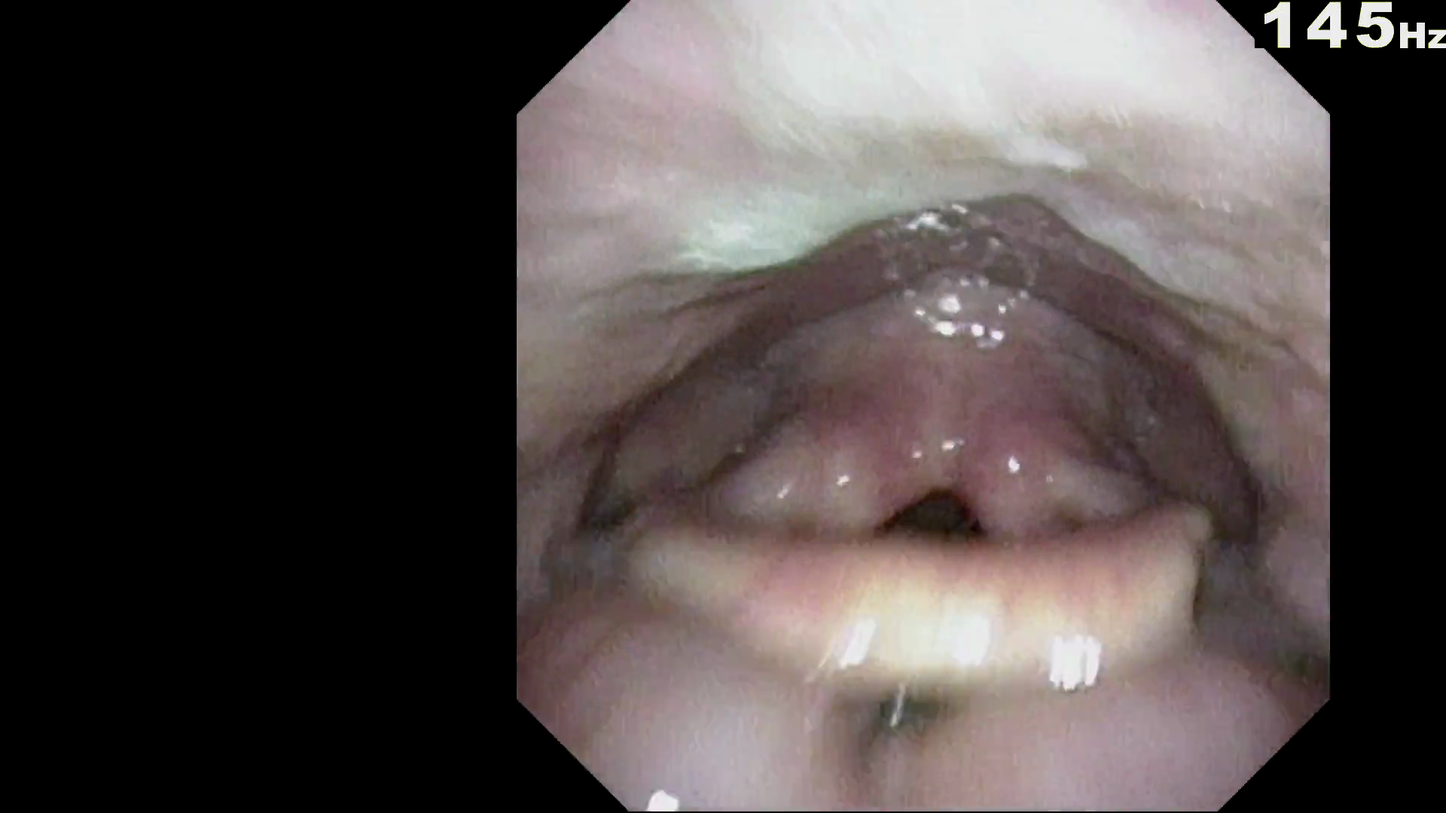epiglottis: (668, 517, 1219, 679)
trachea: (874, 468, 990, 571)
